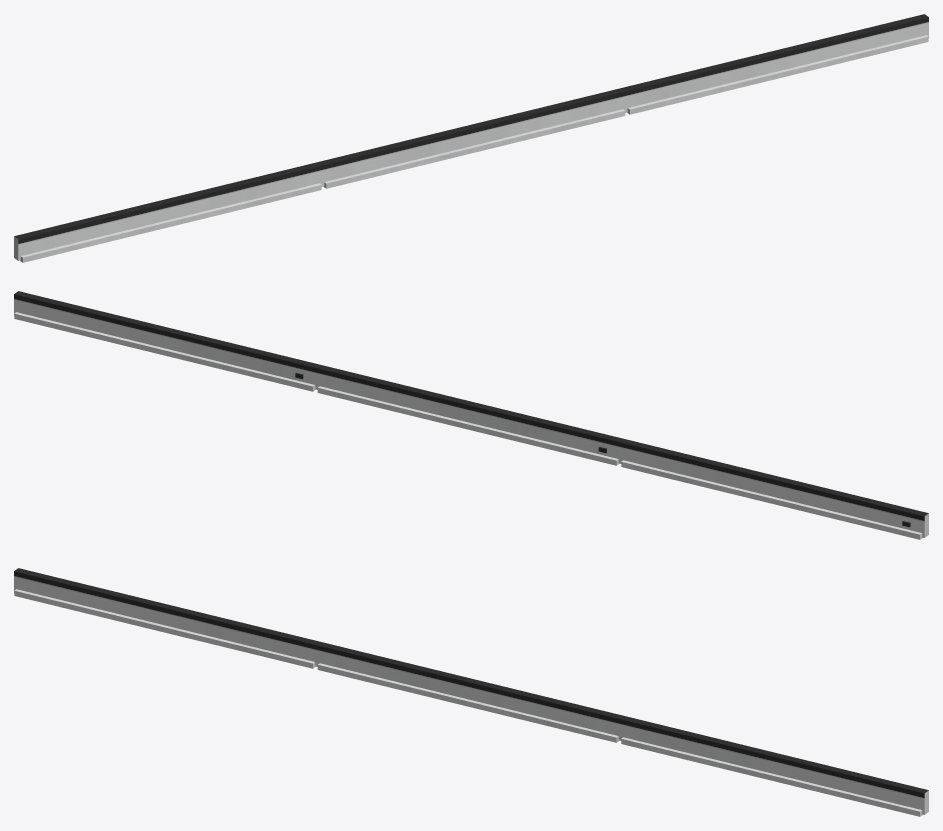
File: LargeLamp.fbx
The picture shows the model from 3 angles, top to bottom: view 1: azimuth 30°, elevation 25°; view 2: azimuth 150°, elevation 25°; view 3: azimuth 330°, elevation 25°; orthographic projection.
Visible parts, largest first — view 1: Lamp, L1, L2, L3; view 2: Lamp, L1, L2, L3; view 3: Lamp, L1, L2, L3.
Boxes of the visible parts, bbox=[...] form: Lamp: bbox=[14, 14, 928, 260]; L1: bbox=[627, 35, 928, 114]; L2: bbox=[324, 109, 625, 188]; L3: bbox=[20, 183, 321, 262]; Lamp: bbox=[14, 291, 928, 537]; L1: bbox=[14, 312, 315, 391]; L2: bbox=[317, 386, 618, 465]; L3: bbox=[621, 460, 922, 539]; Lamp: bbox=[14, 568, 928, 814]; L1: bbox=[621, 737, 922, 816]; L2: bbox=[317, 663, 618, 742]; L3: bbox=[14, 589, 315, 668].
Size of the model in its own units: 3.6 by 0.085 by 0.0591.
